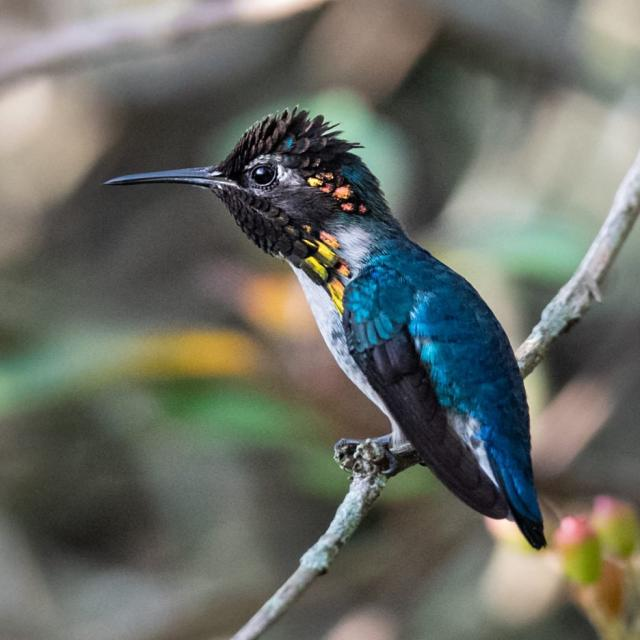Humming Bird: (104, 105, 557, 553)
